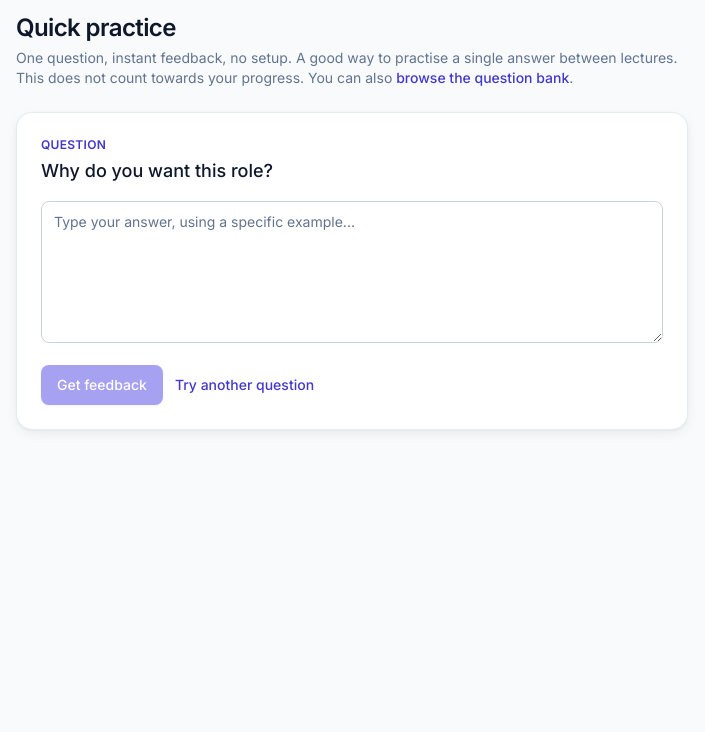
Test: QuickPractice › shows a question and returns instant feedback on an answer
Check: the text "Why do you want this role?" is shown, box 41,160 -> 273,181
In the text box labelled "your answer": coordinates (352, 272) 41,201 -> 663,343, type "Because it sounds interesting."
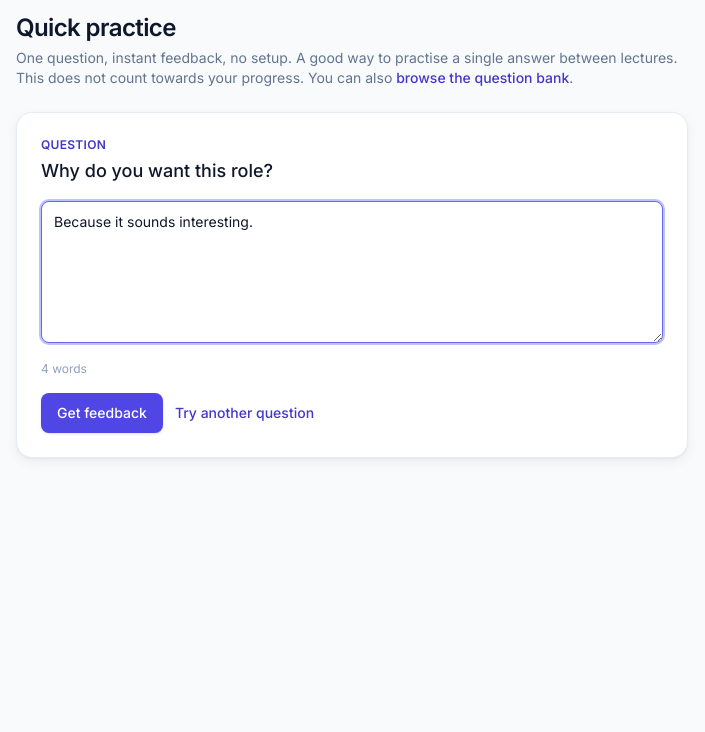
Click the button "Get feedback": coordinates (102, 413) 41,393 -> 163,433
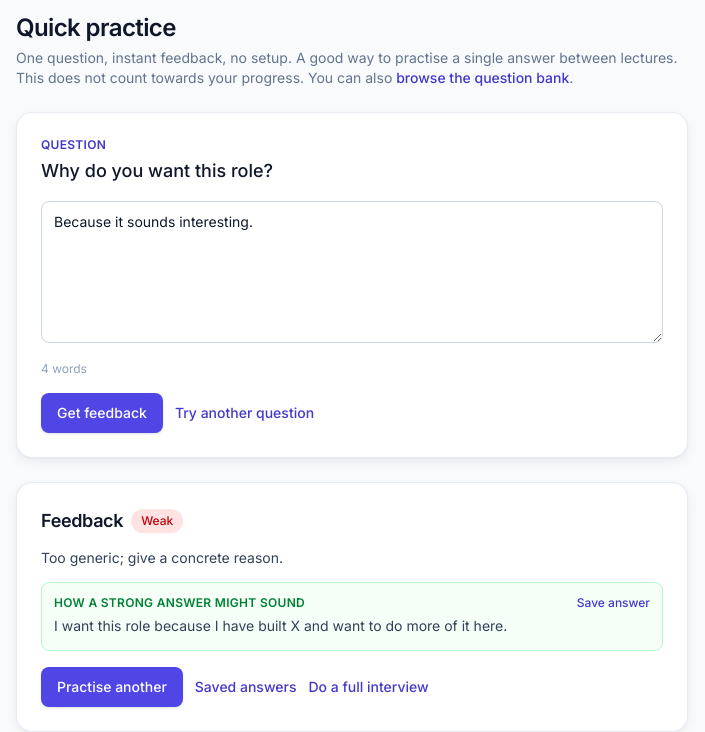
Check: the text "Weak" is shown, box 131,509 -> 183,533
Check: the text "Too generic; give a concrete reason." is shown, box 41,549 -> 283,566
Check: the text "How a strong answer might sound" is shown, box 54,595 -> 305,611
